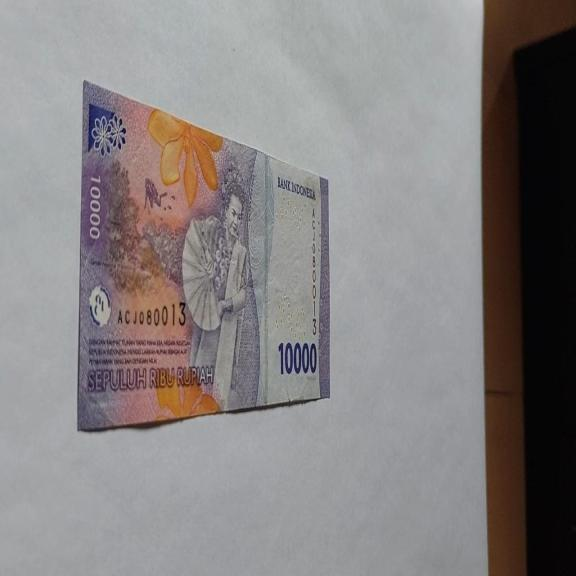Kertas: (76, 78, 330, 433)
